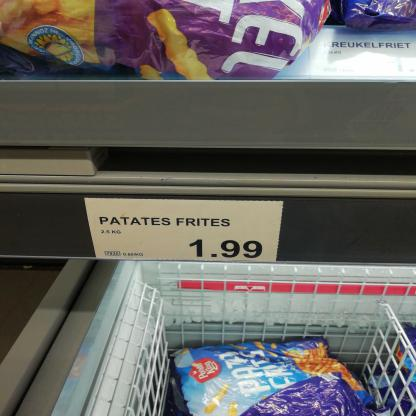prtg: (85, 198, 284, 264)
